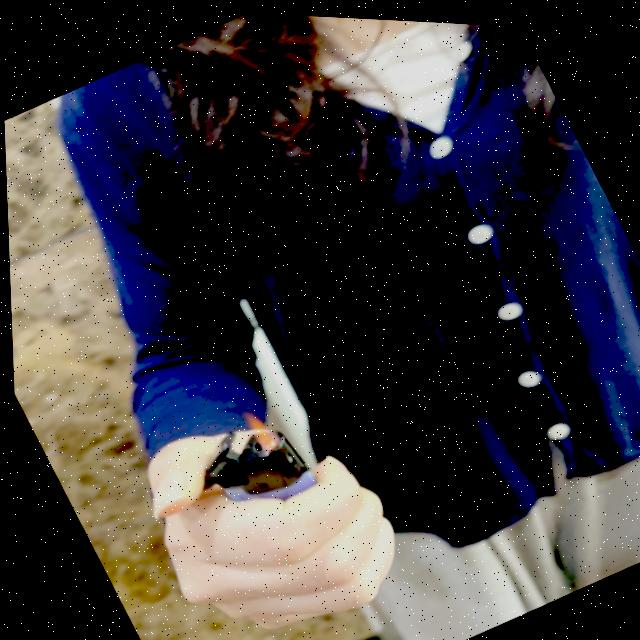Fire: (239, 400, 282, 452)
